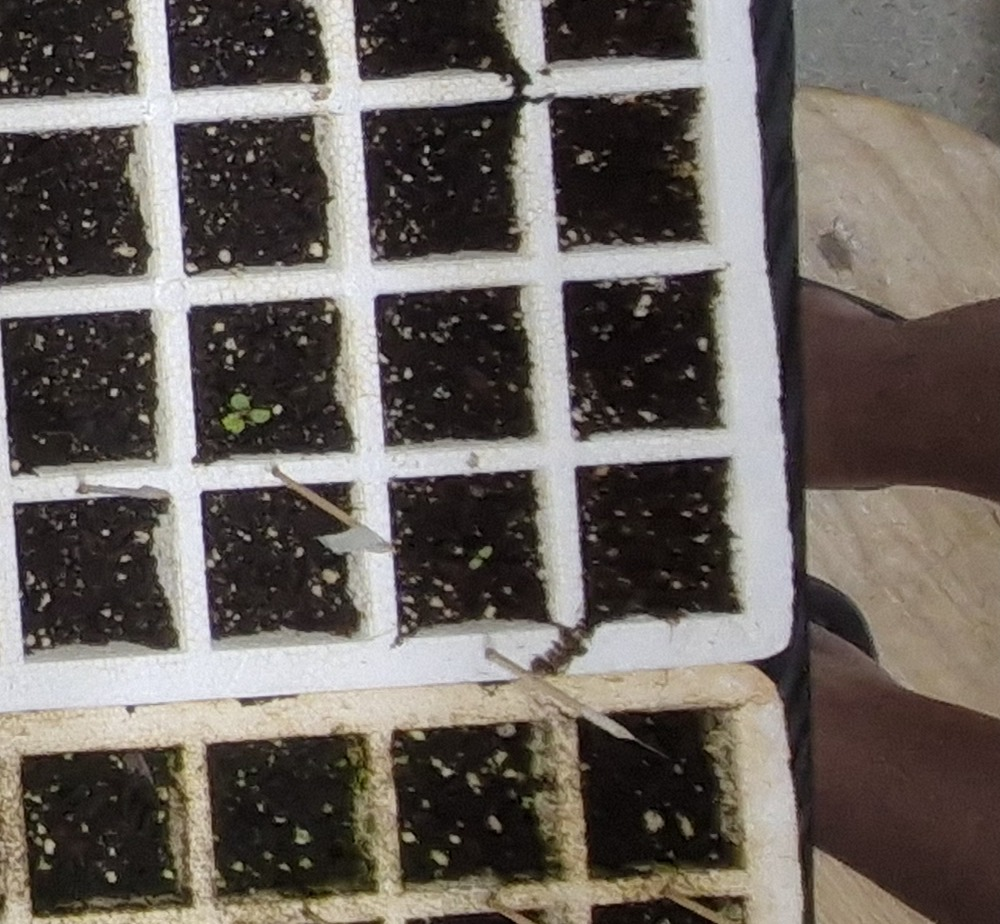Folha: (221, 413, 245, 433), (249, 409, 271, 423), (231, 394, 249, 409), (479, 547, 492, 558), (469, 558, 483, 568)
Germinacao: (222, 394, 270, 434), (468, 546, 492, 570)
